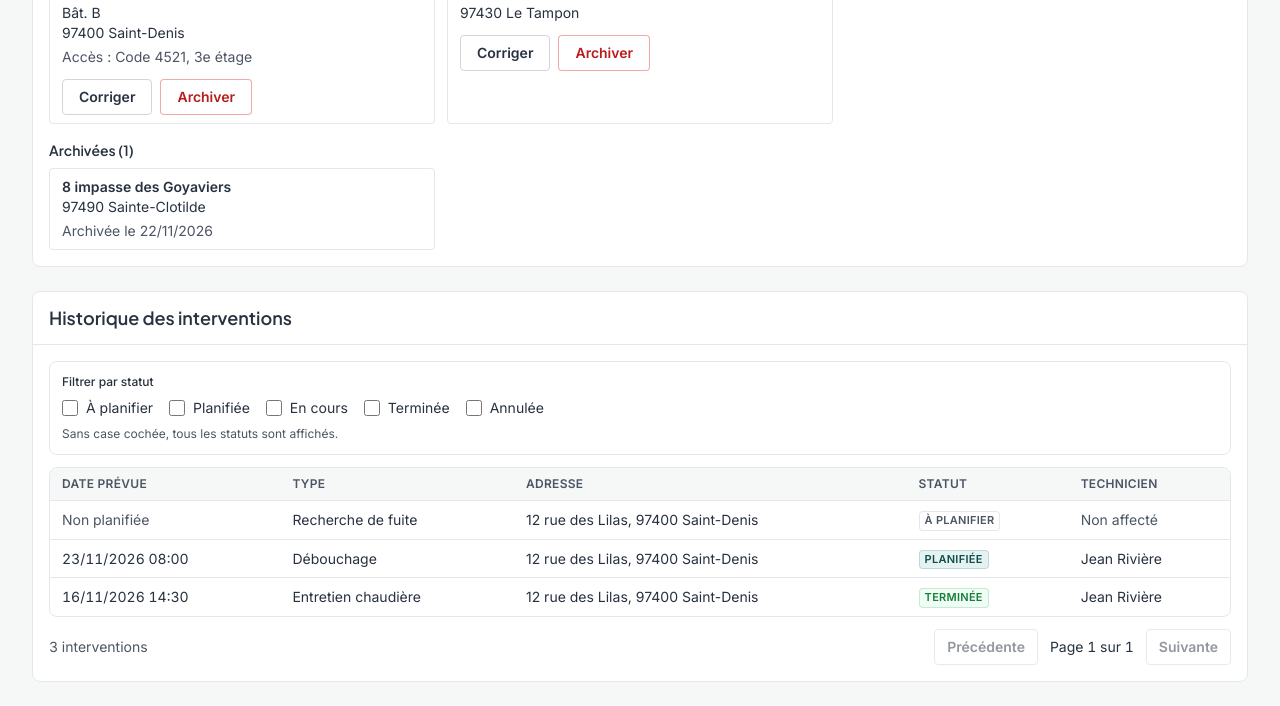
Test case: historique des interventions du client (US09) › US09 : filtre par statut avec des cases à cocher, envoyées en un seul paramètre joint par des virgules
(page scrolled)
Check: the text "Recherche de fuite" is shown, box [280, 501, 514, 539]
// Cochées dans le désordre : la requête suit l'ordre du cycle de vie.
What coordinates should you click on to do the following:
click the checkbox labelled "Terminée"
I would click on:
 (372, 408)
Its box is [364, 400, 380, 416].
(page scrolled)
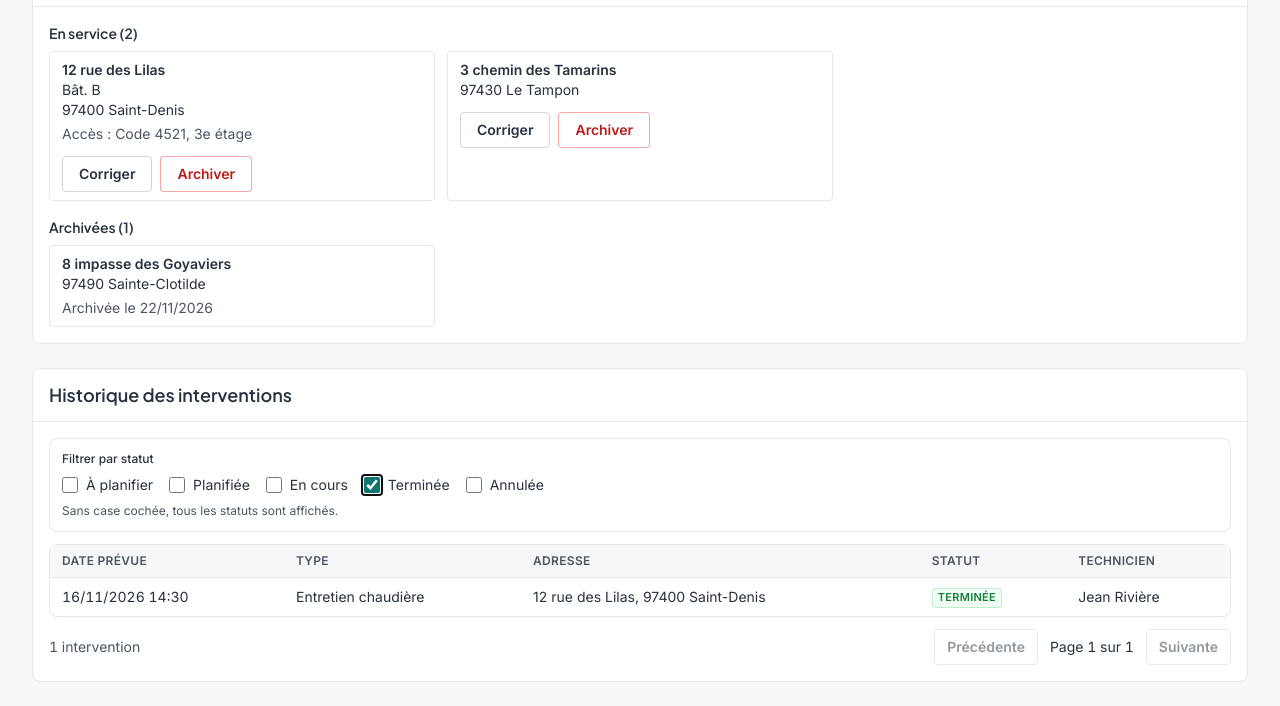
What coordinates should you click on to do the following:
click the checkbox labelled "Planifiée"
I would click on:
 (177, 485)
Its box is [169, 477, 185, 493].
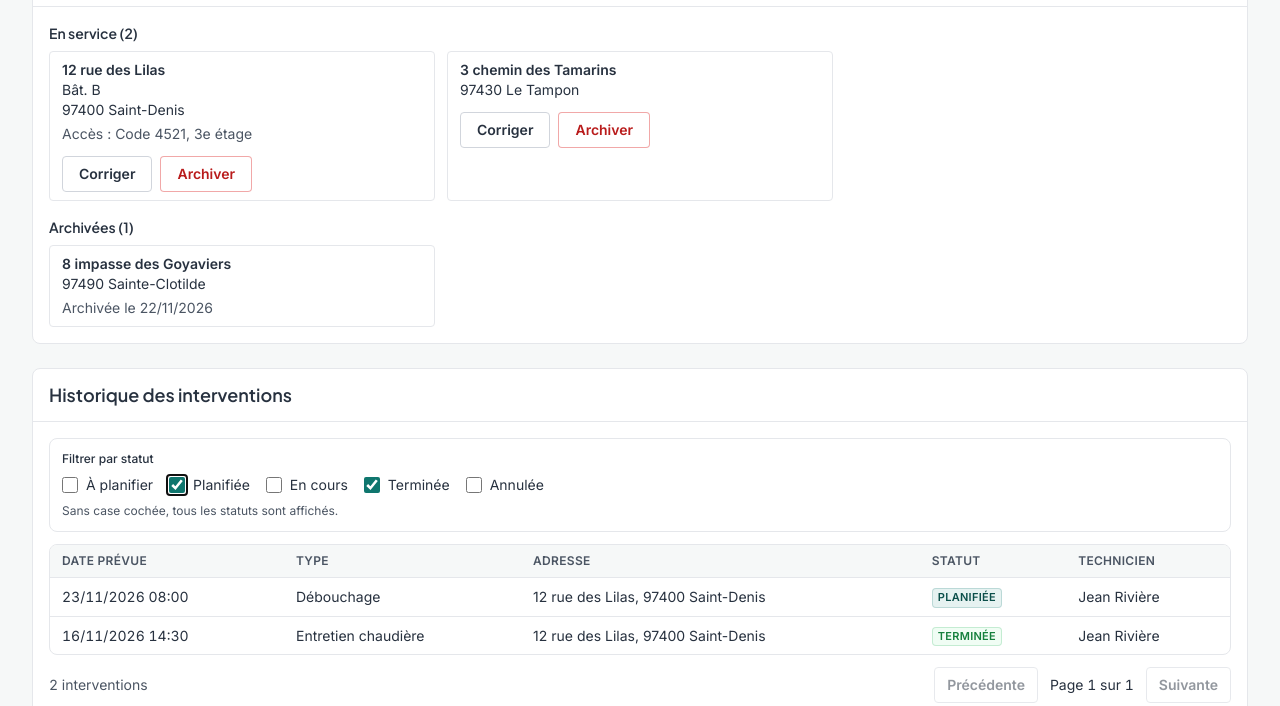
Check: the text "Recherche de fuite" is not shown
Check: the text "Débouchage" is shown, box [284, 578, 521, 616]
What coordinates should you click on to do the following:
click the checkbox labelled "Terminée"
I would click on:
 (372, 485)
Its box is [364, 477, 380, 493].
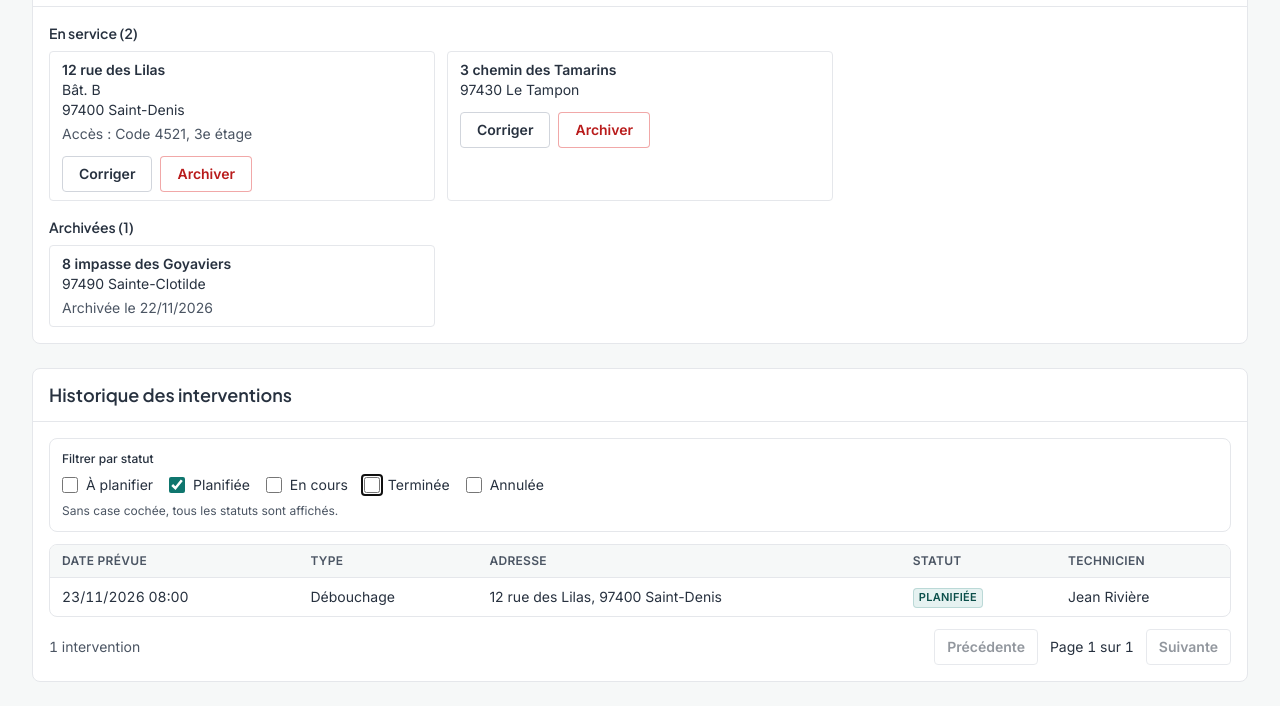
What coordinates should you click on to do the following:
click the checkbox labelled "Planifiée"
I would click on:
 (177, 485)
Its box is [169, 477, 185, 493].
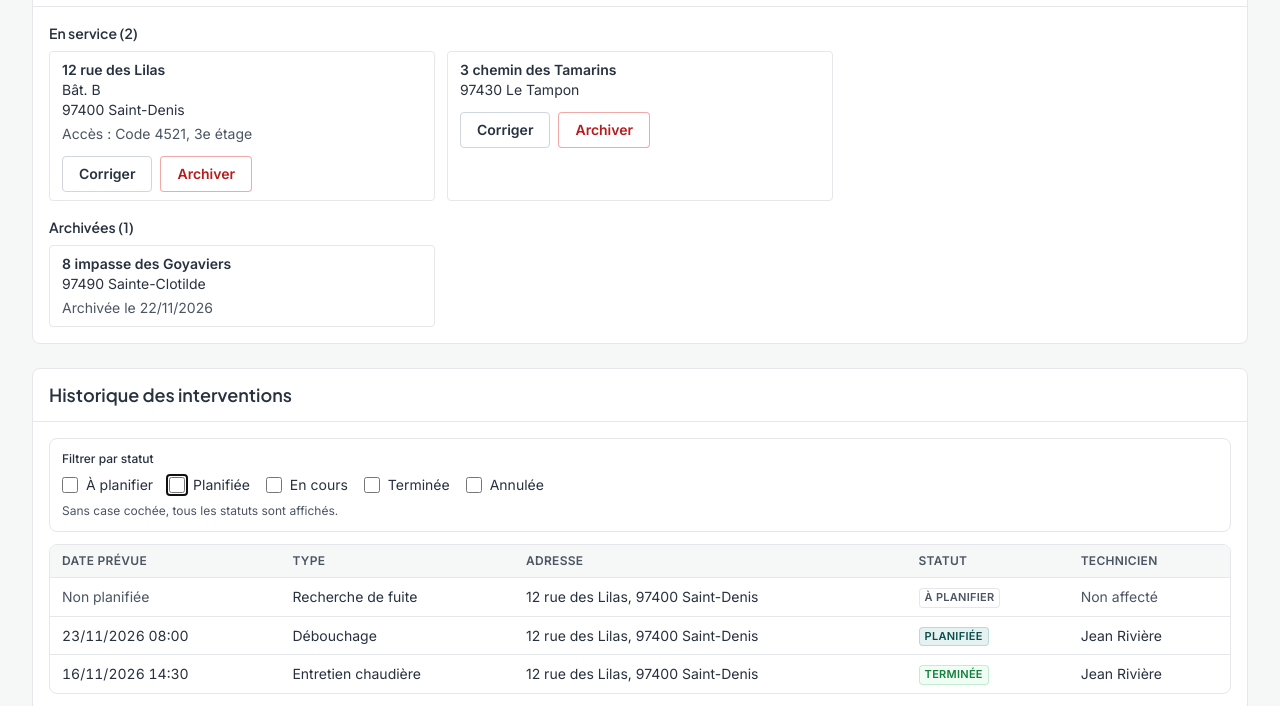
Check: the text "Recherche de fuite" is shown, box [280, 578, 514, 616]
